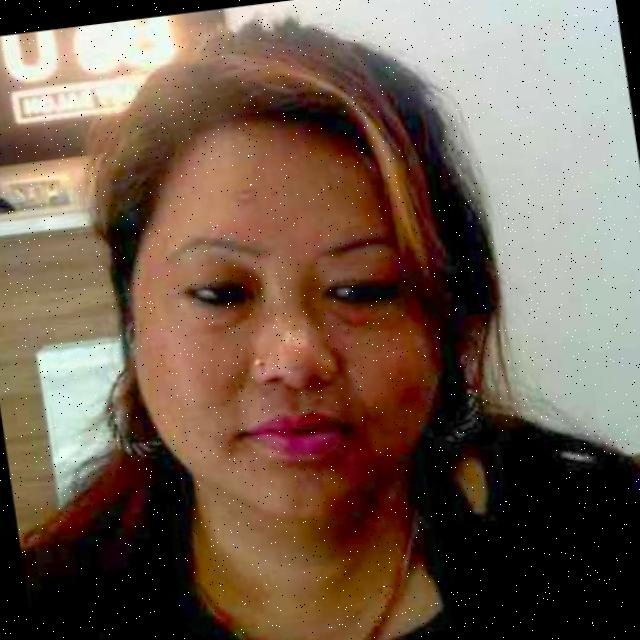puffy_eyes: (177, 298, 256, 329), (319, 310, 390, 323)
